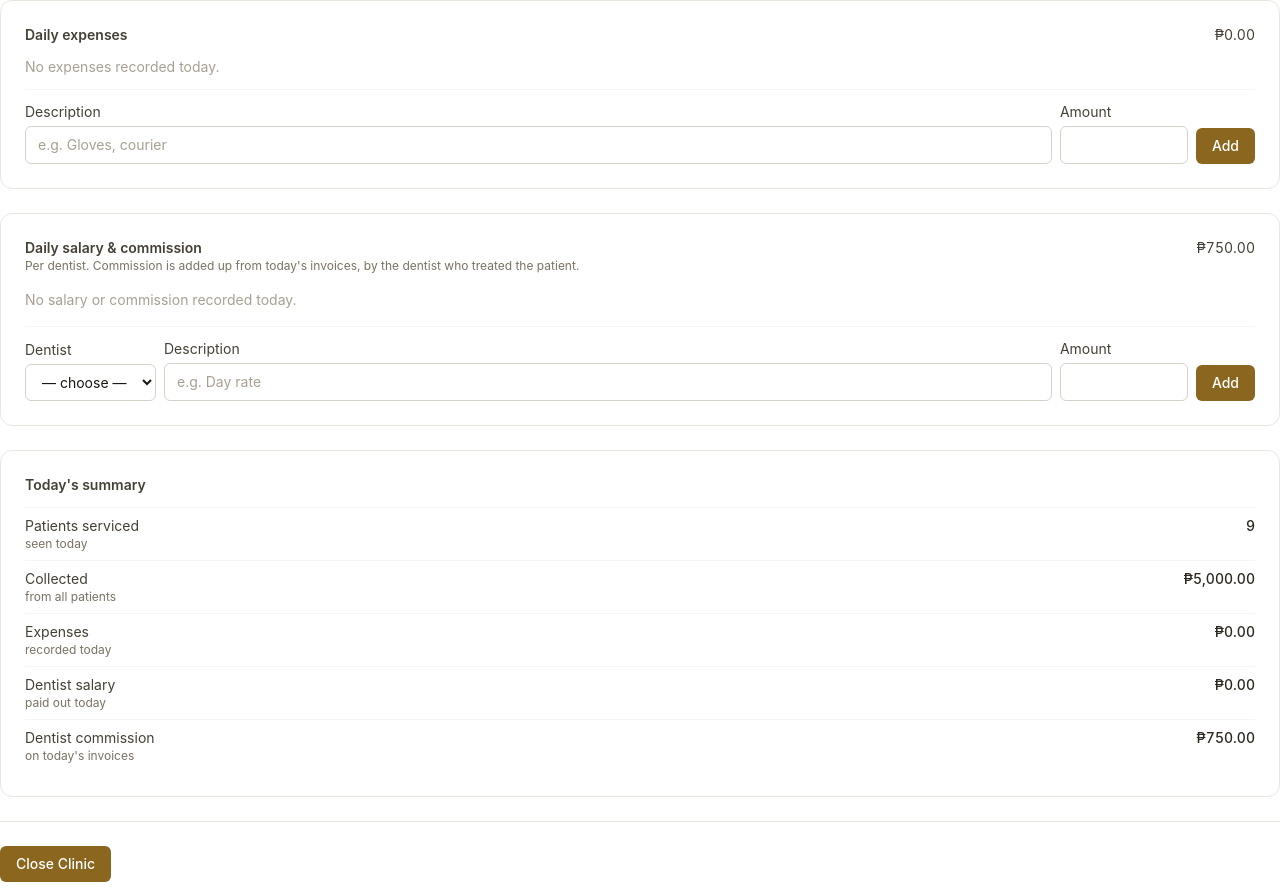
Test case: DailyClosePanel › Close Clinic › says the day is closed even when only the download fails
The width and height of the screenshot is (1280, 891).
Click the button "Close Clinic": (56, 864) [0, 846, 111, 882]
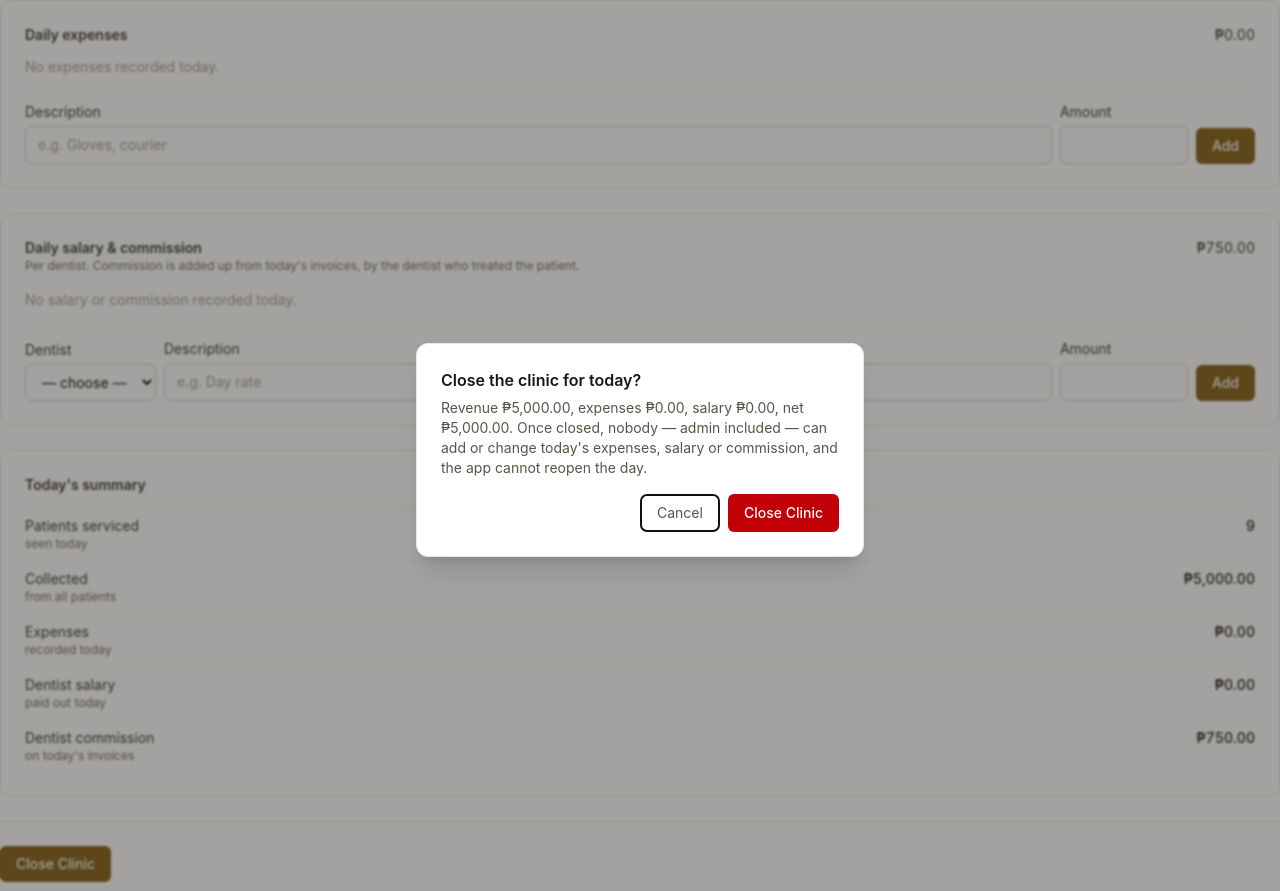
Click the button "Close Clinic": (783, 513) [728, 494, 839, 532]
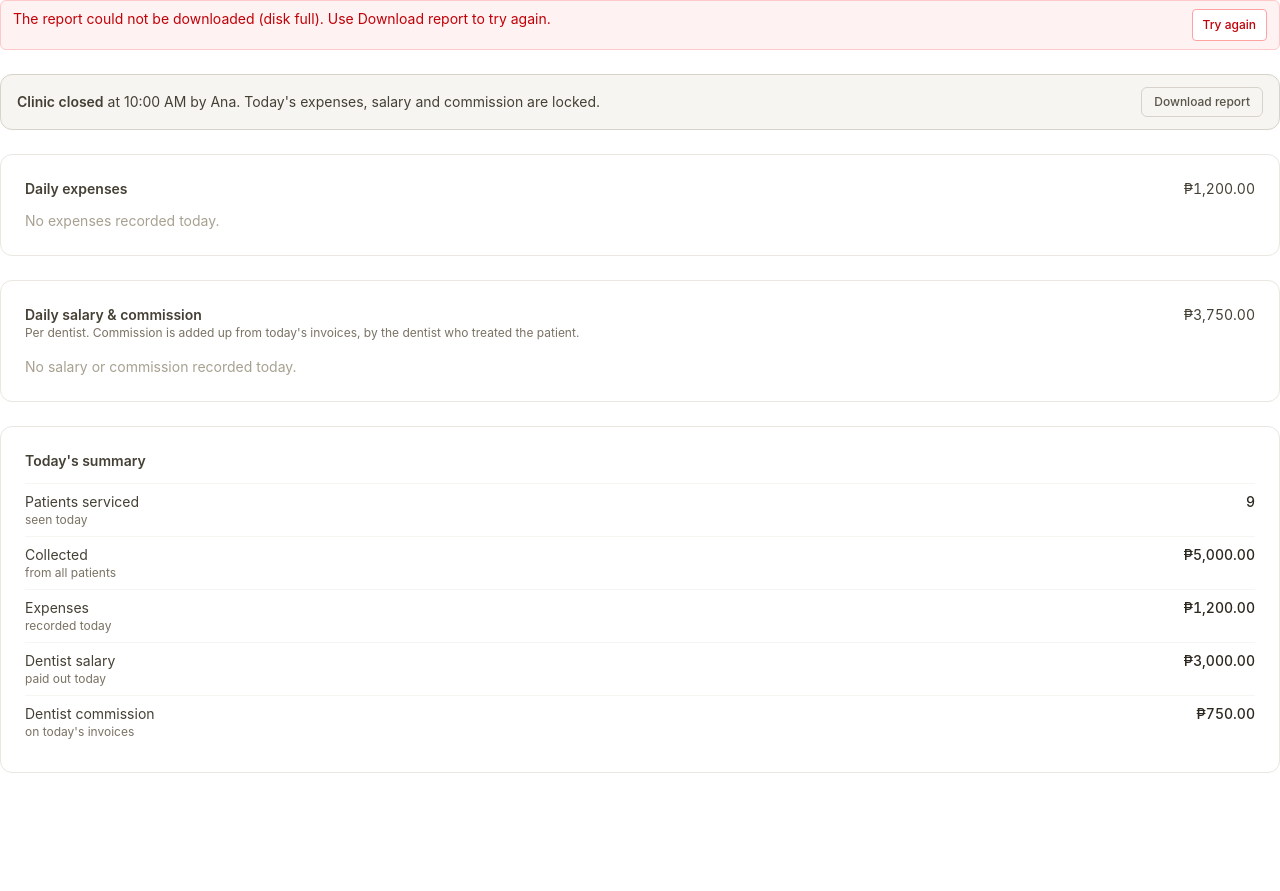
Expected: the text "could not be downloaded" is shown, [13, 10, 551, 27]
Expected: the button "Download report" is shown, [1141, 87, 1263, 117]
